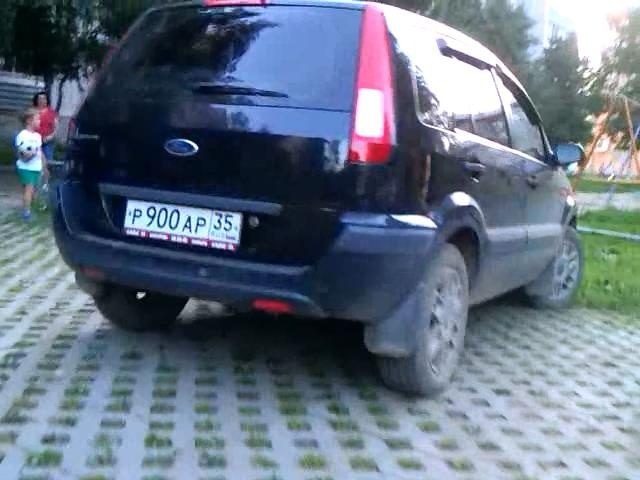car license plate: (120, 196, 244, 251)
